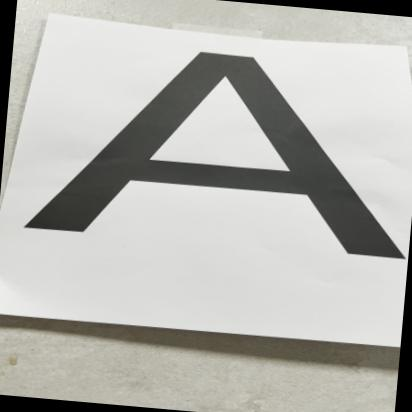seat: (3, 17, 412, 315)
